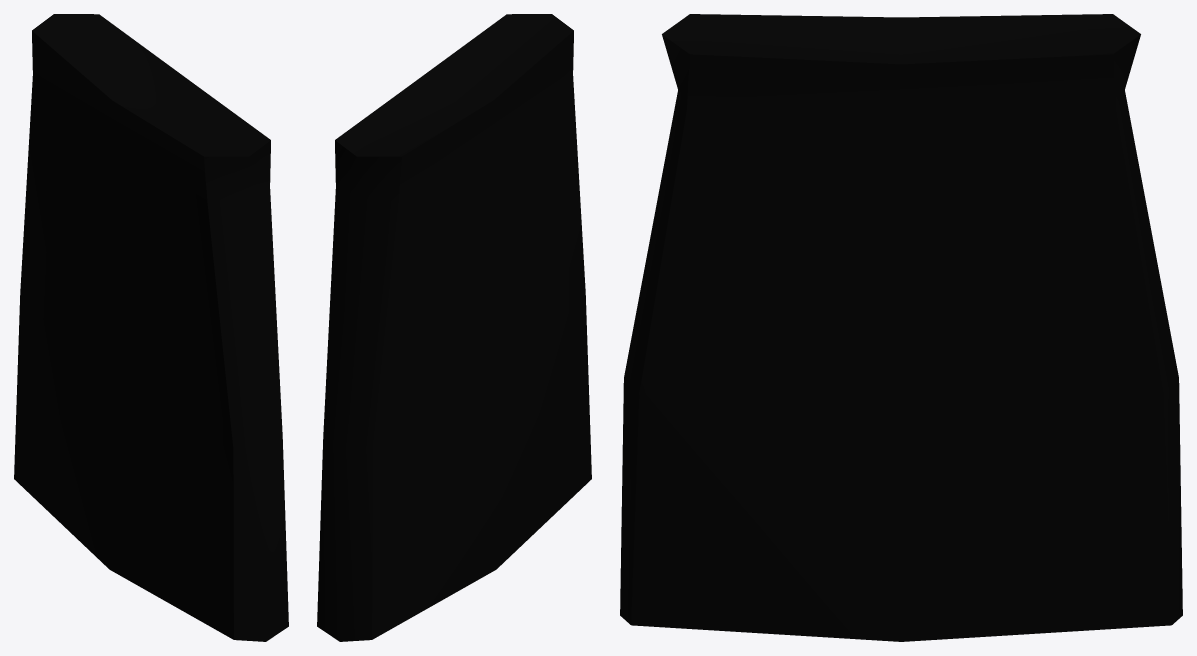
The model's file is flower seeds.fbx.
The picture shows the model from 3 angles, left to right: view 1: azimuth 30°, elevation 25°; view 2: azimuth 150°, elevation 25°; view 3: azimuth 270°, elevation 25°; orthographic projection. The views are drawn at different scales.
Parts seen in each view (by area): view 1: pCube1; view 2: pCube1; view 3: pCube1.
Part boxes in pixels (left/top/right/bottom): pCube1: left=14, top=14, right=288, bottom=641; pCube1: left=317, top=14, right=591, bottom=641; pCube1: left=620, top=14, right=1182, bottom=641.
Bounding box in the file's own units: 2.59 × 10.49 × 9.04.
